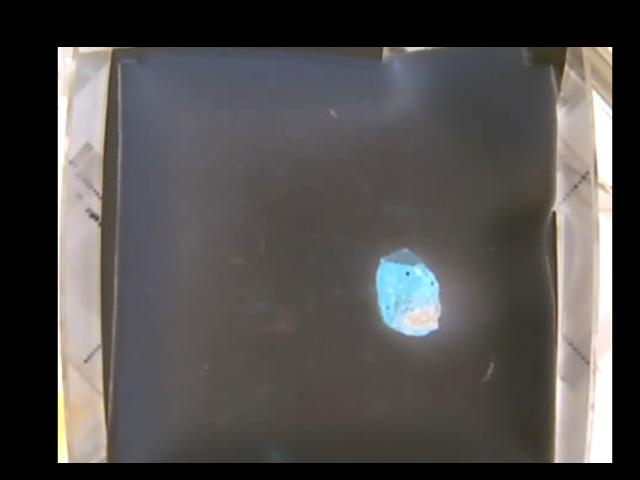Brisk: (377, 247, 441, 335)
